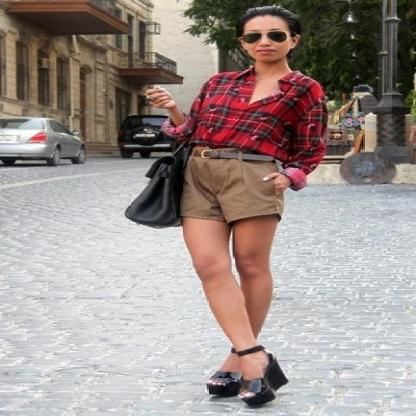bag: (125, 151, 188, 228)
shirt: (170, 61, 341, 191)
shoe: (207, 345, 286, 398)
shorts: (181, 158, 288, 223)
sunglass: (233, 23, 297, 51)
